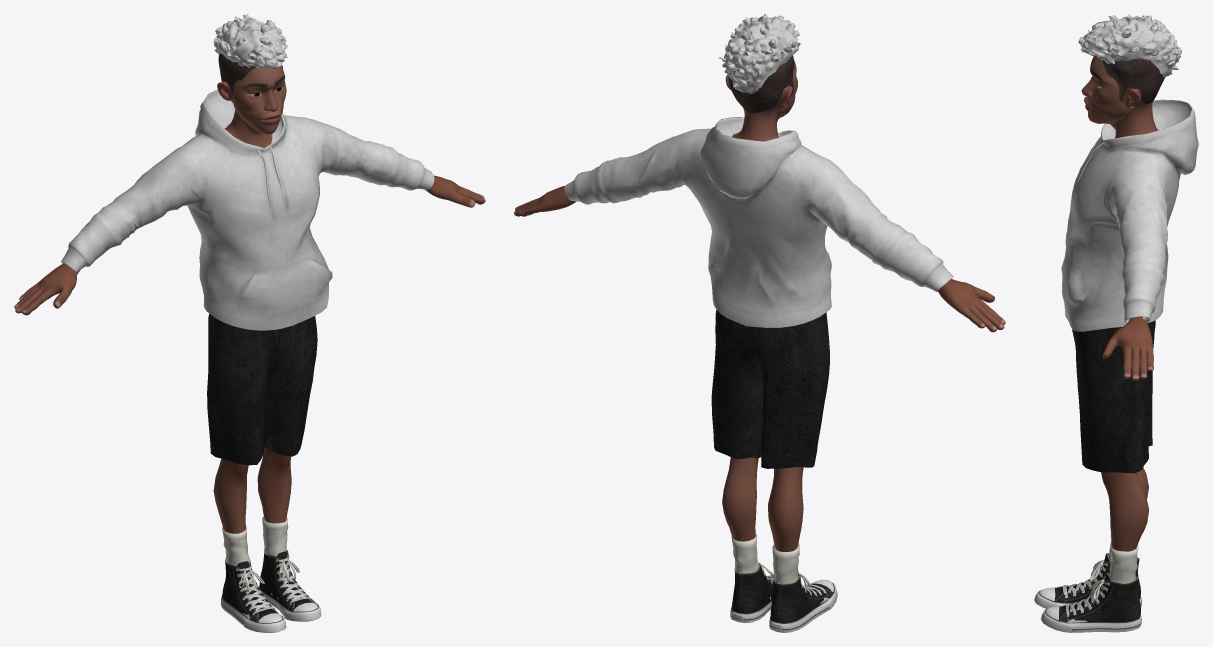
File: FRANKFBX.fbx
3 views of the same model, side by side, from view 1: azimuth 30°, elevation 25°; view 2: azimuth 150°, elevation 25°; view 3: azimuth 270°, elevation 25° (orthographic). The views are drawn at different scales.
Parts seen in each view (by area): view 1: Frank:Hoodie, Frank:Shorts, Frank:CC_Base_Body, Frank:Hair, Frank:shoes_R, Frank:shoes_L, Frank:sockL, Frank:sockR, Frank:CC_Hair; view 2: Frank:Hoodie, Frank:Shorts, Frank:CC_Base_Body, Frank:Hair, Frank:shoes_R, Frank:shoes_L, Frank:CC_Hair, Frank:sockR, Frank:sockL; view 3: Frank:Hoodie, Frank:Shorts, Frank:CC_Base_Body, Frank:Hair, Frank:shoes_L, Frank:CC_Hair, Frank:shoes_R, Frank:sockL.
Part boxes in pixels (x1=…): Frank:Hoodie: x1=61, y1=89, x2=434, y2=330; Frank:Shorts: x1=207, y1=314, x2=317, y2=465; Frank:CC_Base_Body: x1=14, y1=66, x2=485, y2=619; Frank:Hair: x1=213, y1=14, x2=288, y2=68; Frank:shoes_R: x1=220, y1=558, x2=286, y2=632; Frank:shoes_L: x1=259, y1=550, x2=321, y2=621; Frank:sockL: x1=262, y1=516, x2=288, y2=556; Frank:sockR: x1=222, y1=526, x2=249, y2=565; Frank:CC_Hair: x1=218, y1=54, x2=282, y2=97; Frank:Hoodie: x1=564, y1=117, x2=953, y2=327; Frank:Shorts: x1=711, y1=310, x2=829, y2=468; Frank:CC_Base_Body: x1=514, y1=60, x2=1005, y2=603; Frank:Hair: x1=718, y1=14, x2=801, y2=93; Frank:shoes_R: x1=769, y1=570, x2=837, y2=632; Frank:shoes_L: x1=730, y1=563, x2=773, y2=622; Frank:CC_Hair: x1=728, y1=55, x2=794, y2=112; Frank:sockR: x1=772, y1=543, x2=799, y2=583; Frank:sockL: x1=731, y1=533, x2=758, y2=573; Frank:Hoodie: x1=1061, y1=99, x2=1198, y2=331; Frank:Shorts: x1=1072, y1=320, x2=1155, y2=473; Frank:CC_Base_Body: x1=1066, y1=55, x2=1157, y2=623; Frank:Hair: x1=1078, y1=14, x2=1181, y2=77; Frank:shoes_L: x1=1040, y1=573, x2=1141, y2=632; Frank:CC_Hair: x1=1102, y1=59, x2=1165, y2=103; Frank:shoes_R: x1=1034, y1=553, x2=1141, y2=608; Frank:sockL: x1=1109, y1=544, x2=1138, y2=583.
Size of the model in its own units: 10.38 by 12.29 by 3.06.
